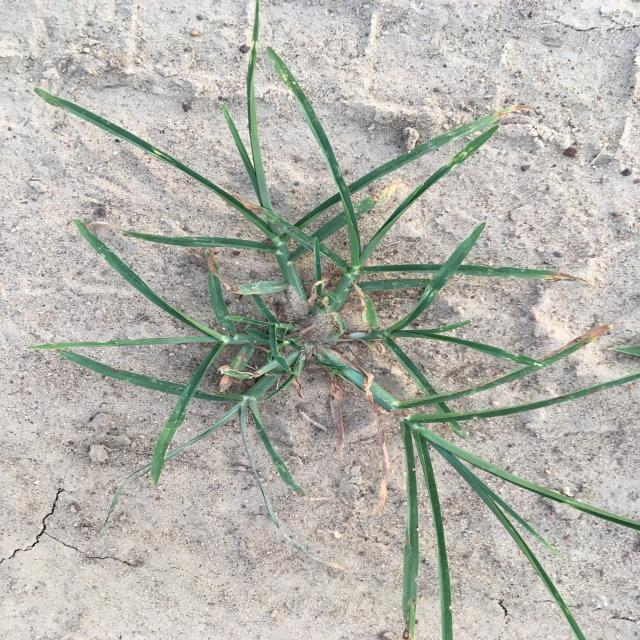Goosegrass: (26, 1, 640, 638)
